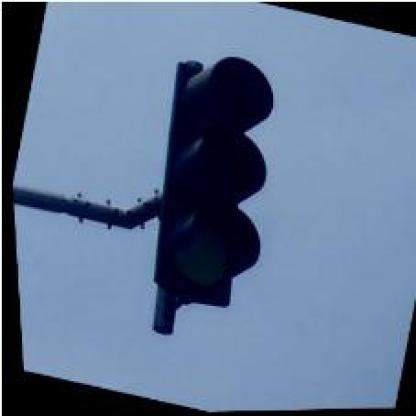green: (118, 43, 307, 320)
